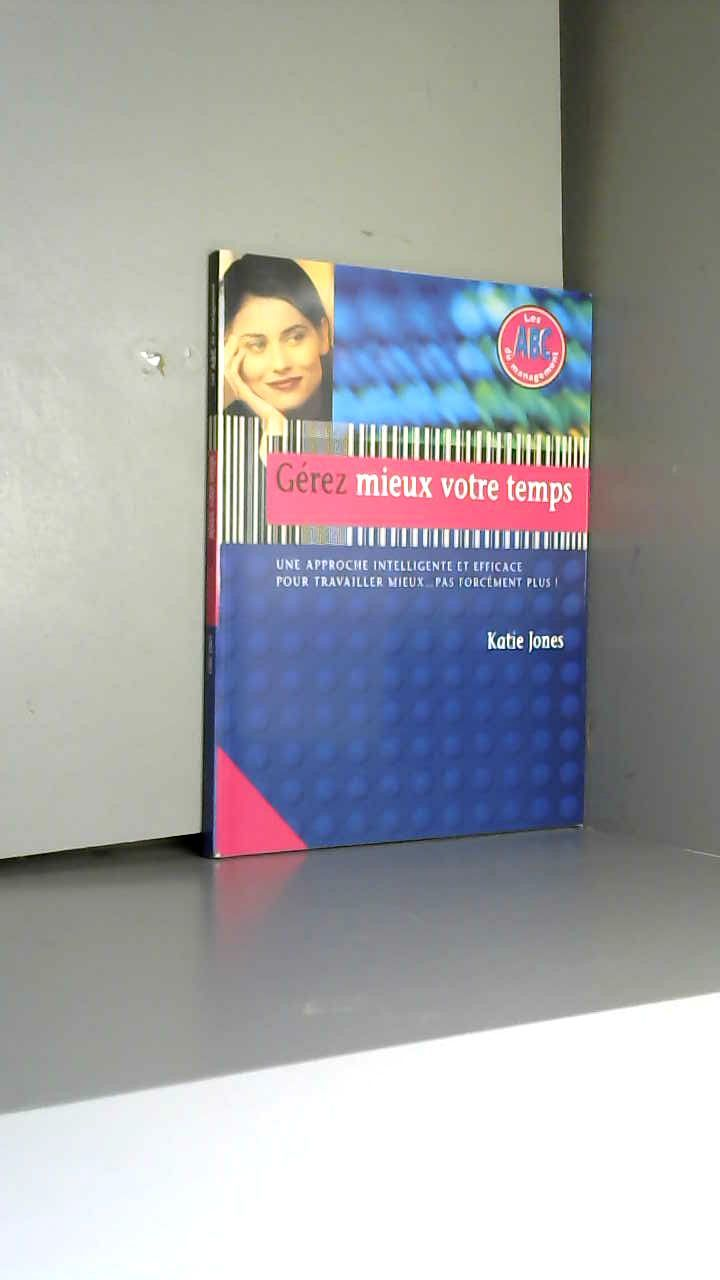book: (170, 220, 716, 937)
